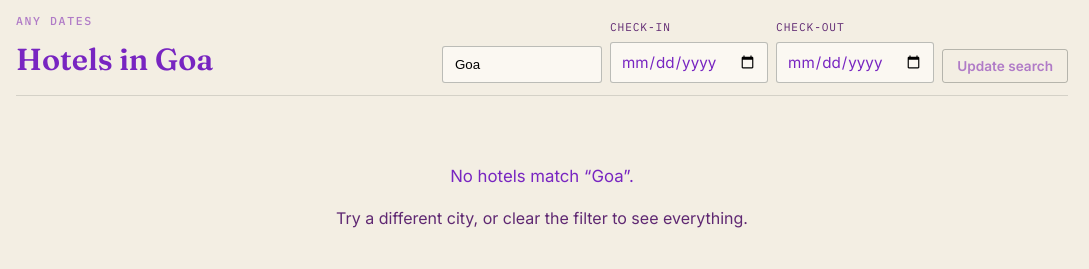
Test: HotelList › shows a validation error instead of searching when check-out is before check-in
The image size is (1089, 269).
Type "2027-06-10" into the date field labelled "Check-in". click: (689, 62)
box: x1=610 y1=42 x2=768 y2=83
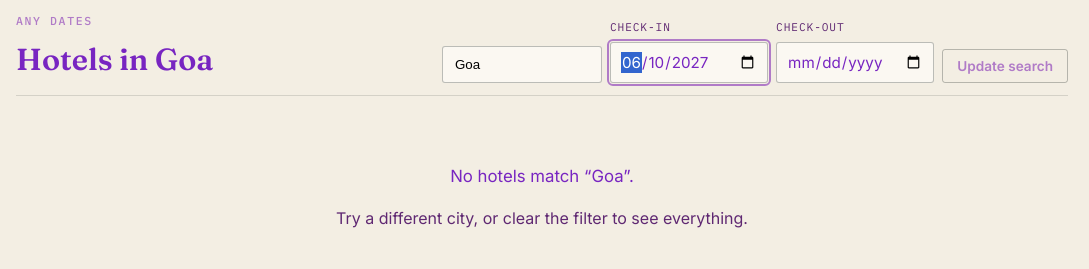
Type "2027-06-05" into the date field labelled "Check-out". click: (855, 62)
box: x1=776 y1=42 x2=934 y2=83
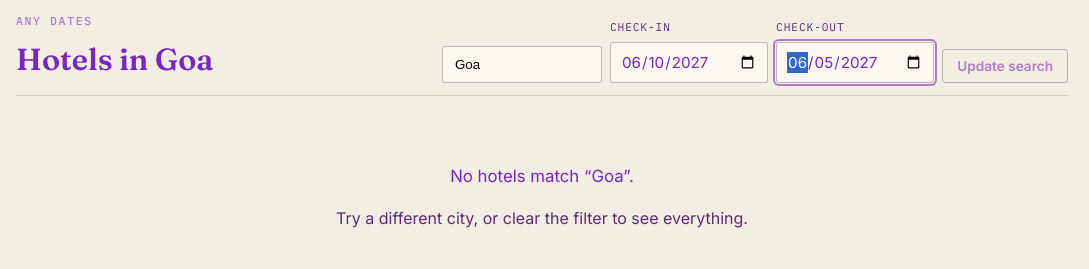
Click the button "Update search". click: (1005, 66)
box: x1=942 y1=49 x2=1068 y2=83
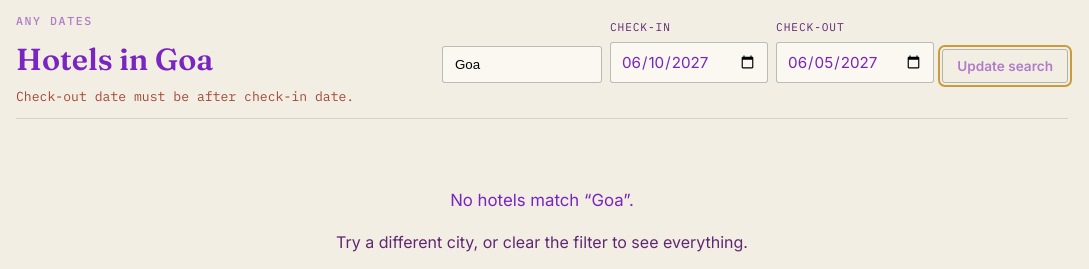
Result: the text "Check-out date must be after check-in date." is shown at x1=16 y1=88 x2=354 y2=105
